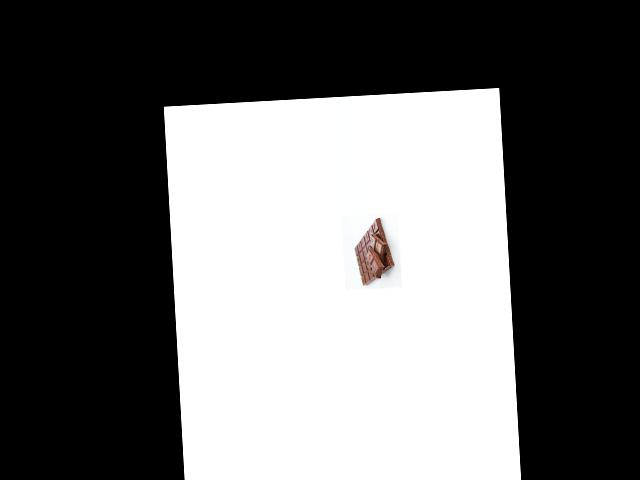chocolate: (349, 216, 398, 286)
